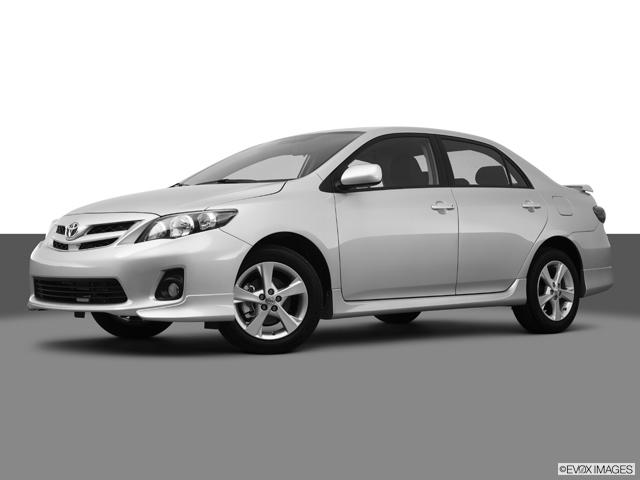car: (20, 115, 636, 365)
